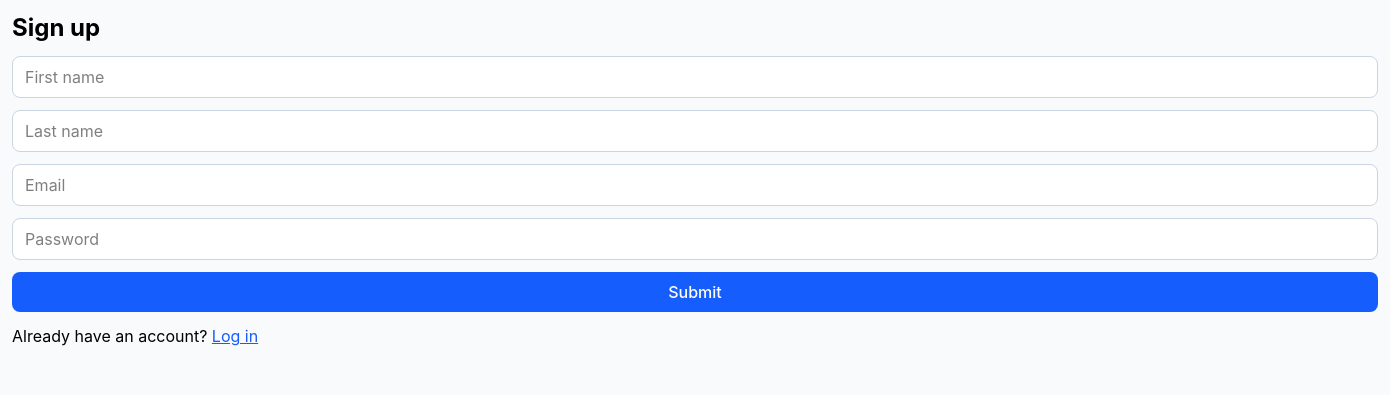
Test: shows a generic error on a server error
This screenshot has width=1390, height=395.
In the field with placeholder "Email": (695, 185) [12, 164, 1378, 206], type "test@example.com"
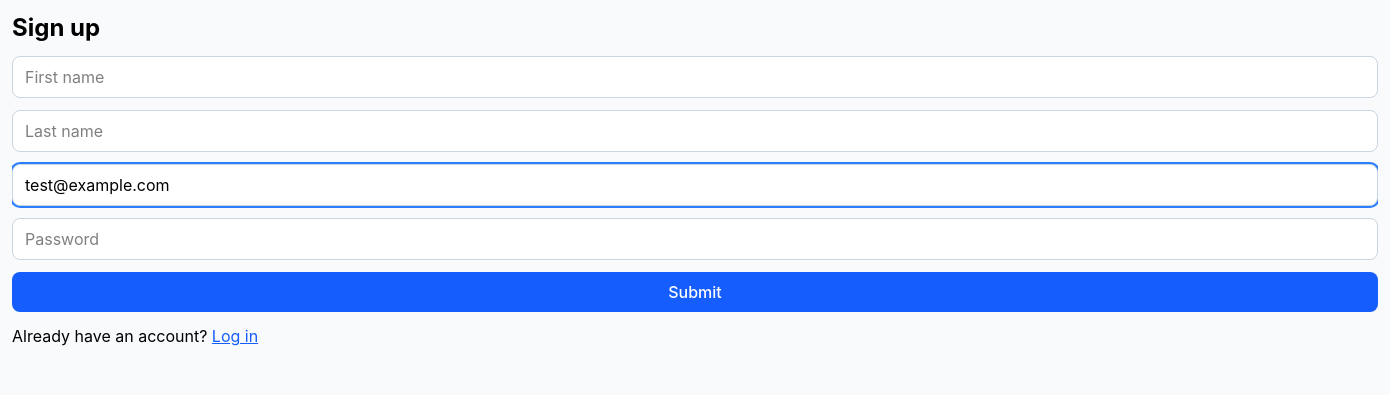
In the field with placeholder "First name": (695, 77) [12, 56, 1378, 98], type "Kolya"
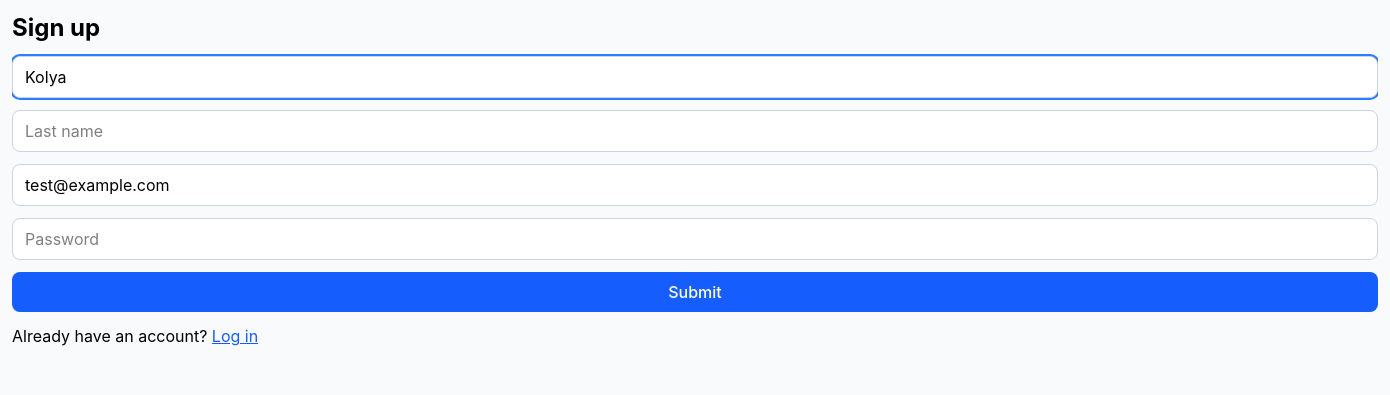
In the field with placeholder "Last name": (695, 131) [12, 110, 1378, 152], type "Examplovich"
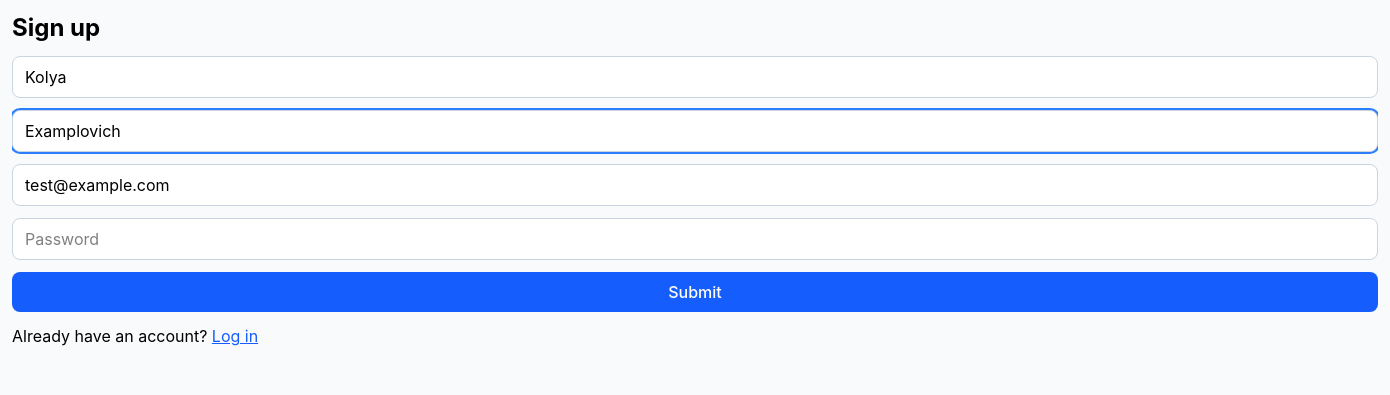
In the password field with placeholder "Password": (695, 239) [12, 218, 1378, 260], type "password"
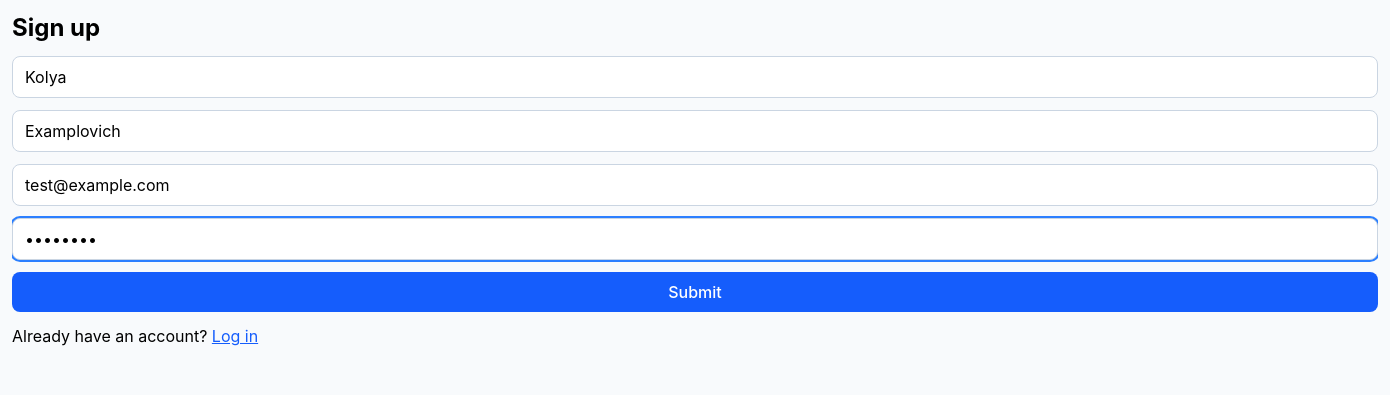
Click the button "Submit": click(695, 292) [12, 272, 1378, 312]
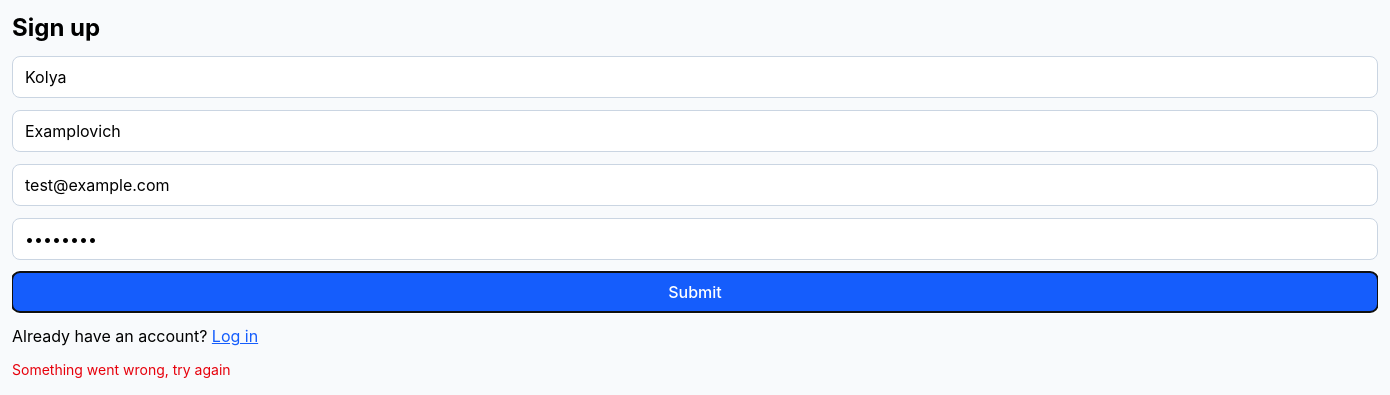
Expected: the heading "Sign up" is shown, [12, 13, 100, 42]
Expected: the text "Something went wrong, try again" is shown, [12, 361, 231, 378]
